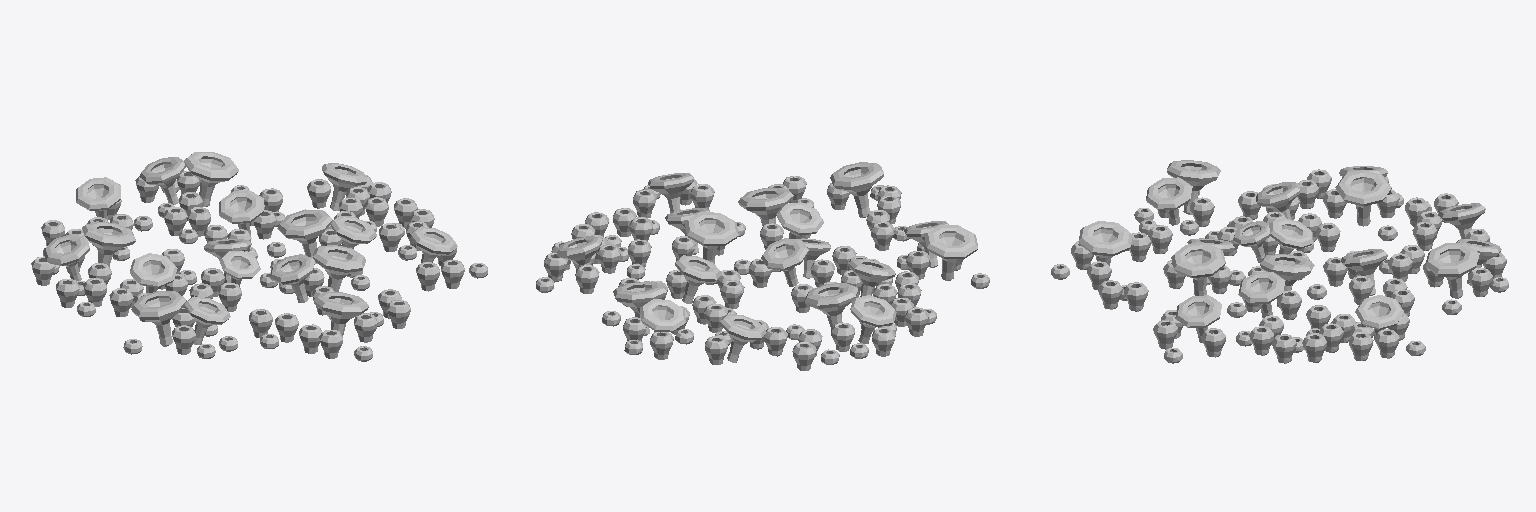
File: Sippysup_Stage3_LOD0.obj
3 renders of one model, left to right at view 1: azimuth 30°, elevation 25°; view 2: azimuth 150°, elevation 25°; view 3: azimuth 270°, elevation 25°, orthographic.
Visible parts, largest first — view 1: Cylinder.214; view 2: Cylinder.214; view 3: Cylinder.214.
Part boxes in pixels (x1,y1,x2,y2): Cylinder.214: (31,152,487,361); Cylinder.214: (536,162,989,370); Cylinder.214: (1051,160,1508,363).
Bounding box in the file's own units: 1.63 × 0.2135 × 1.8.